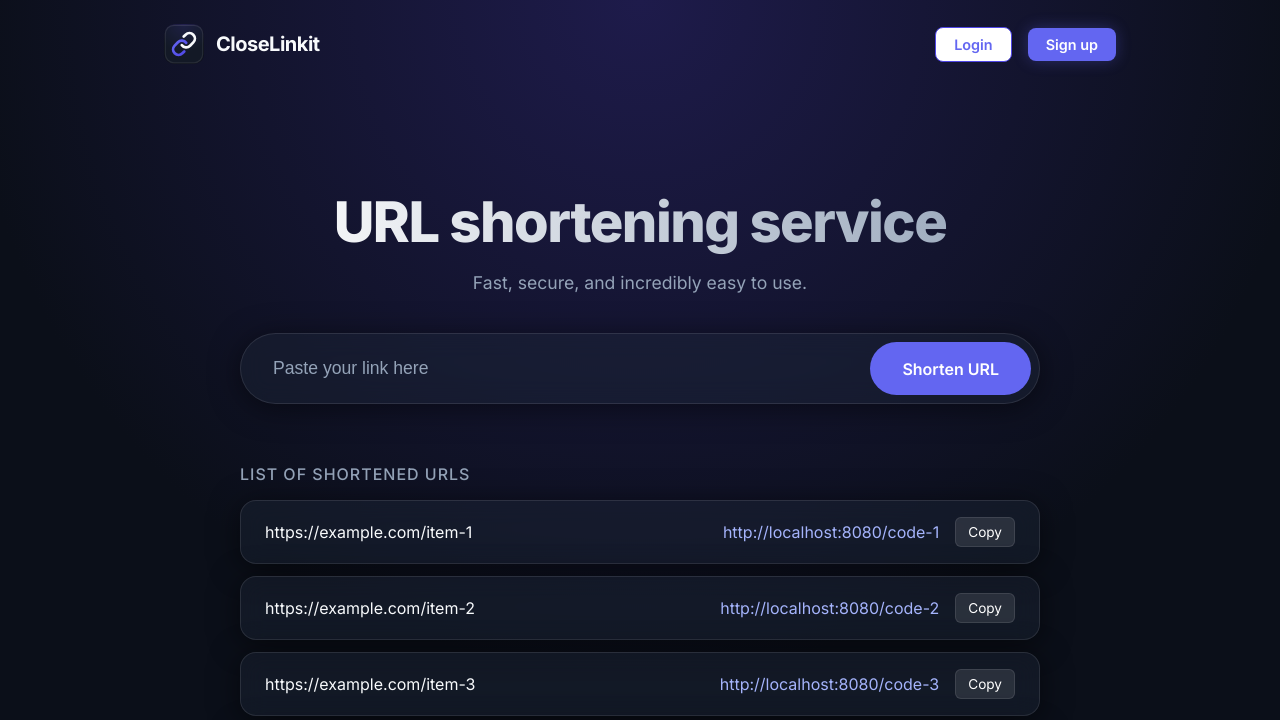
Test case: App Component › maintains a maximum of 10 items in history
Type "https://example.com/item-11" into the field with placeholder "Paste your link here" at (556, 368), box [249,342,862,395]
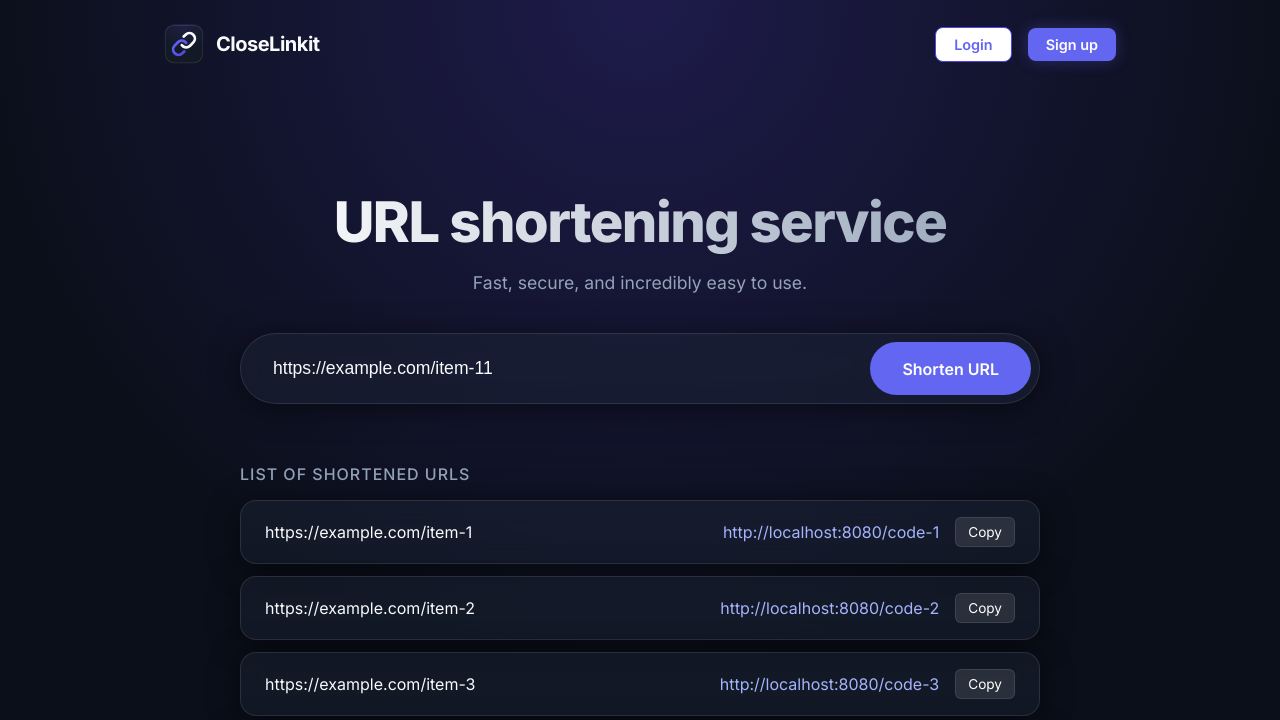
Click the button "Shorten URL" at (951, 368), box [870,342,1031,395]
(page scrolled)
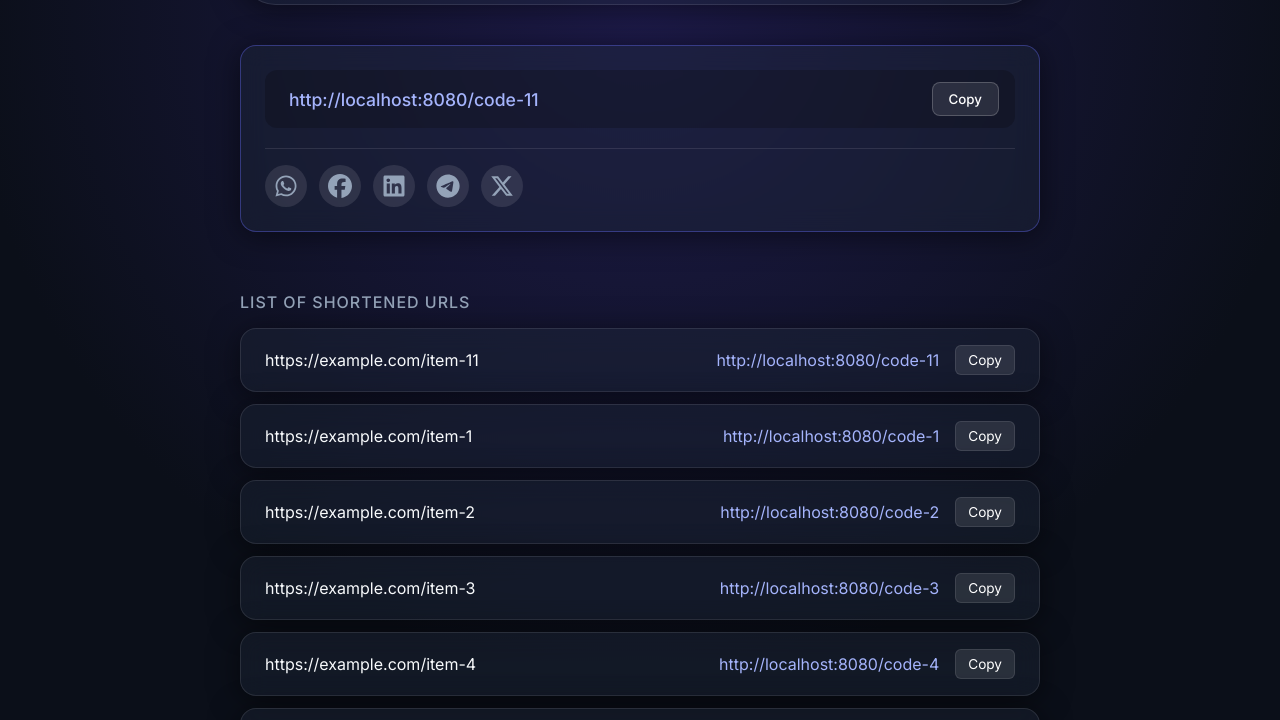
Now the text "https://example.com/item-11" is shown, box [265,350,479,370]
